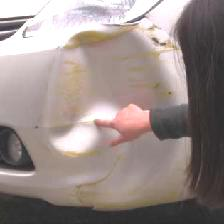bumper_dent: (49, 26, 183, 185)
